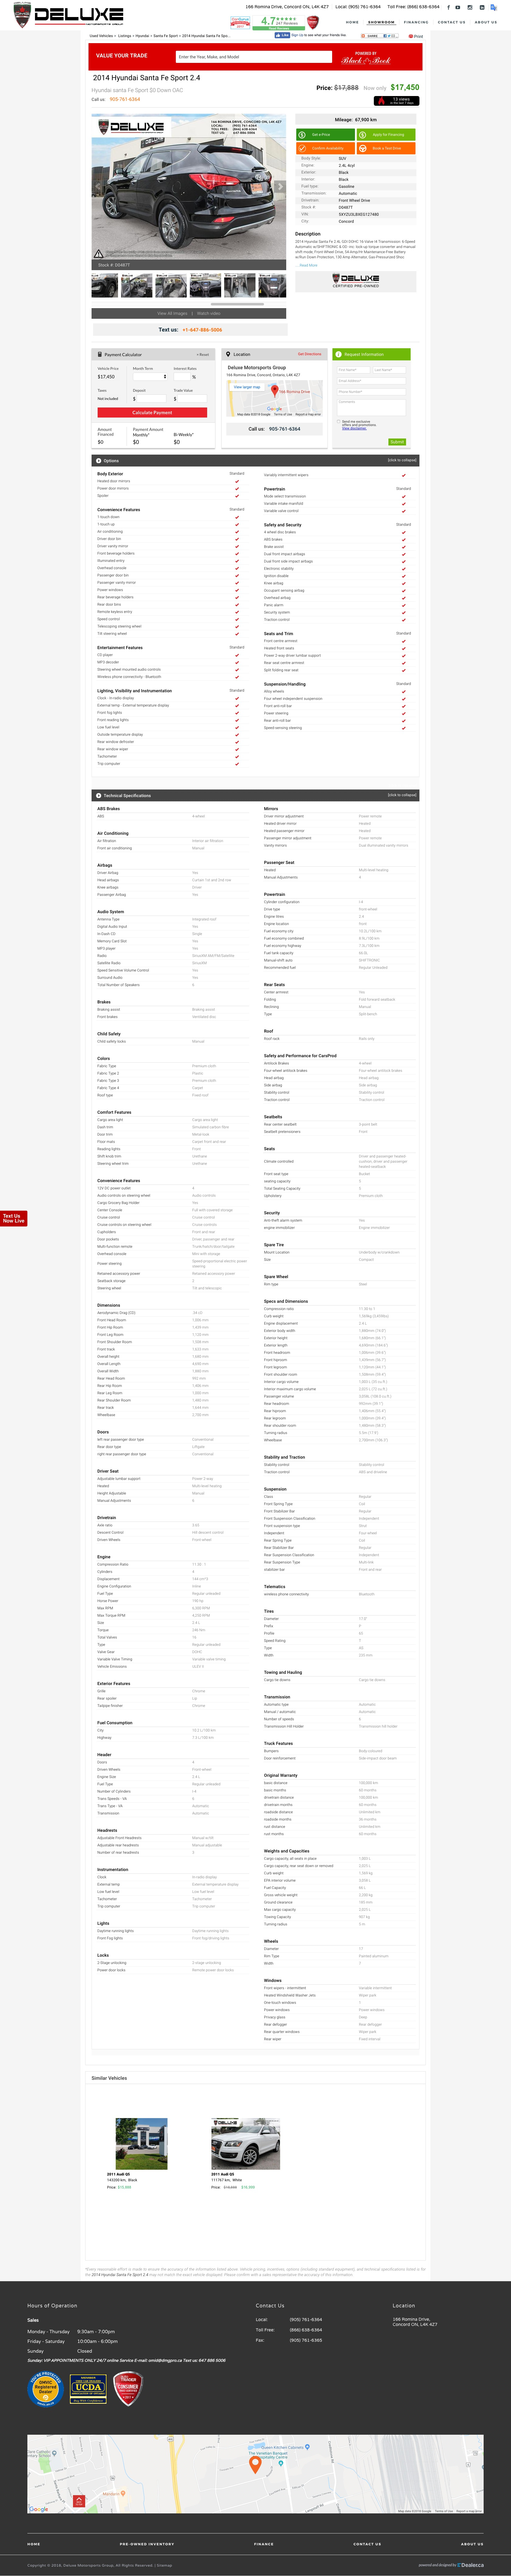car: (274, 179, 288, 194)
